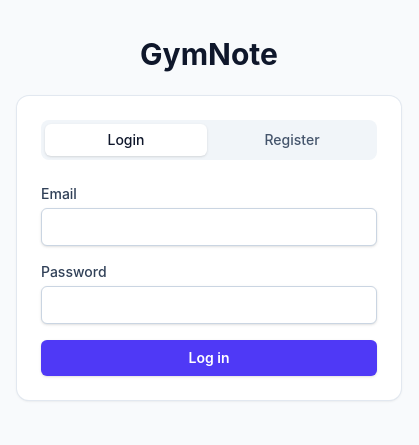
Test: AuthPage › shows the server error when login fails and stays on the page
The width and height of the screenshot is (419, 445).
Type "me@example.com" into the field labelled "Email" at point(209, 227), box [41,208,377,246]
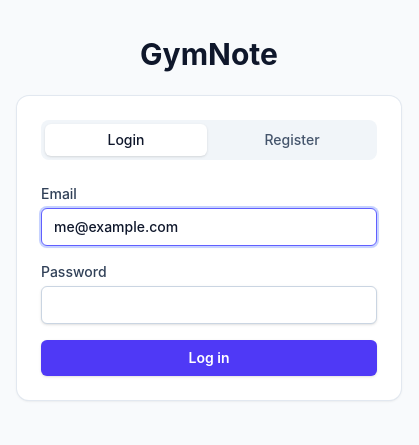
Type "wrong-password" into the password field labelled "Password" at point(209, 305), box [41,286,377,324]
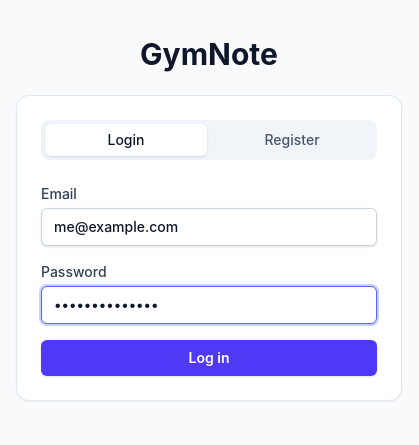
Click the button "Log in" at point(209, 358), box [41,340,377,376]
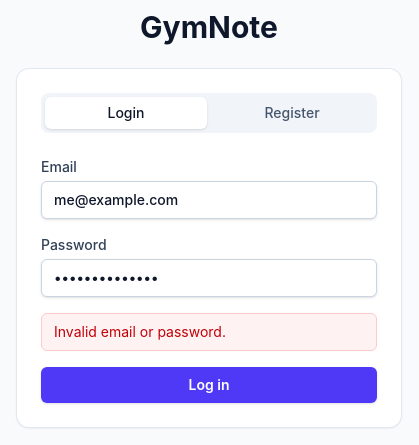
Check: the message reads "Invalid email or password.", box [54,323,226,340]
